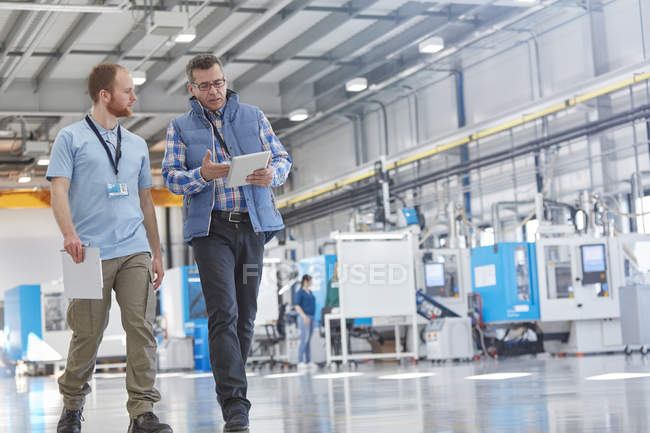person: (163, 57, 292, 433), (45, 66, 172, 433)
